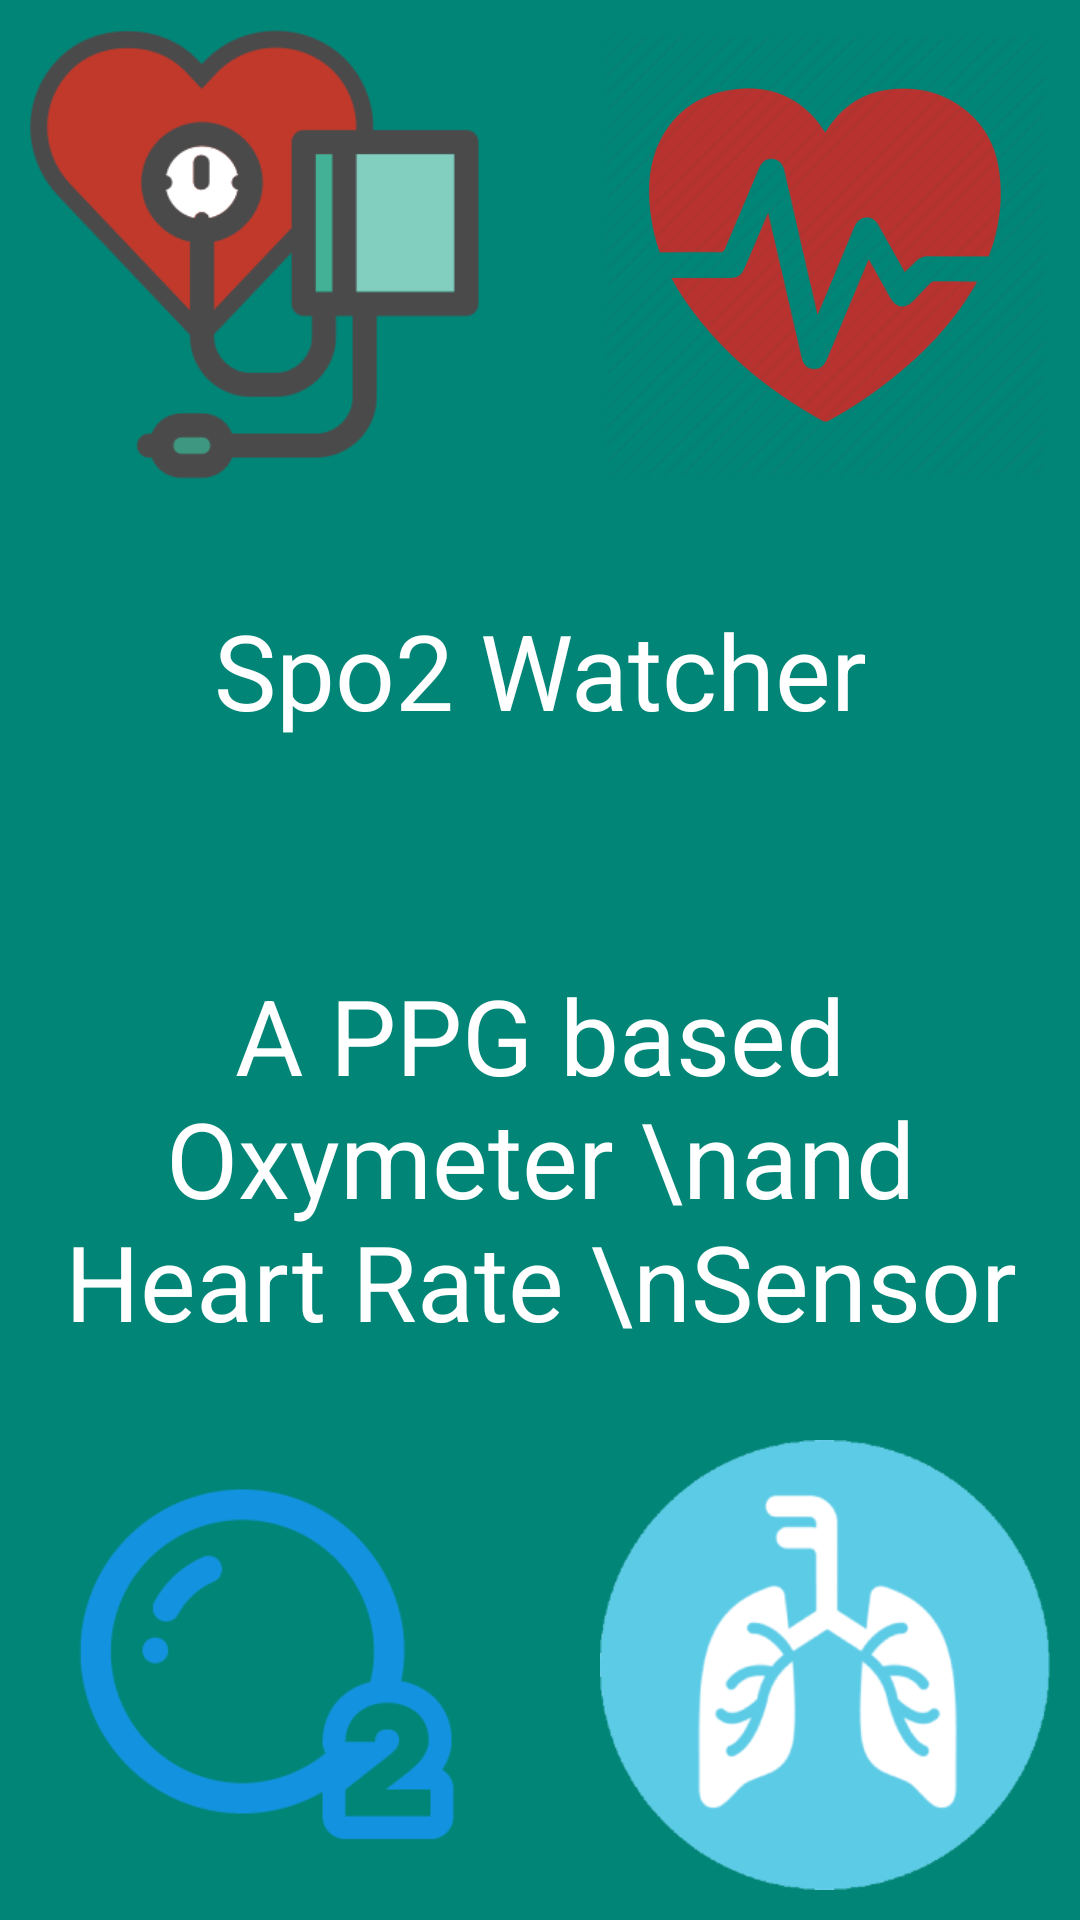

Where to tap for icons on this 1080*1920 app screen, as (x=x, y=y):
heartrate: (x=825, y=255)
